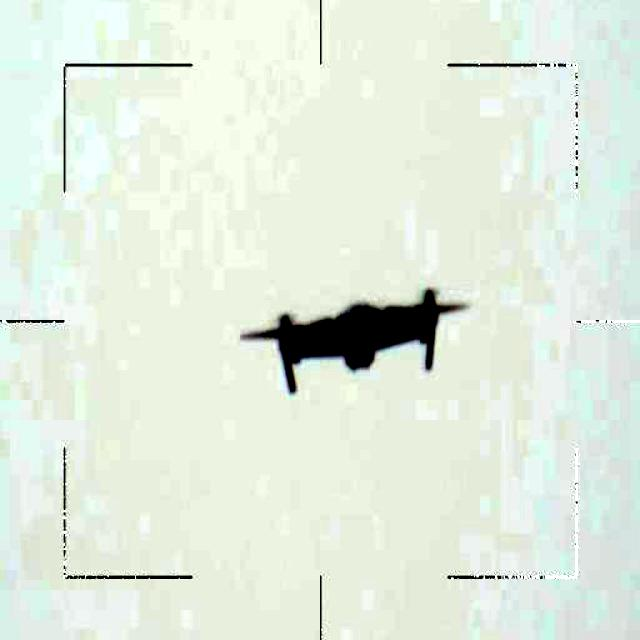bird: (246, 272, 475, 400)
